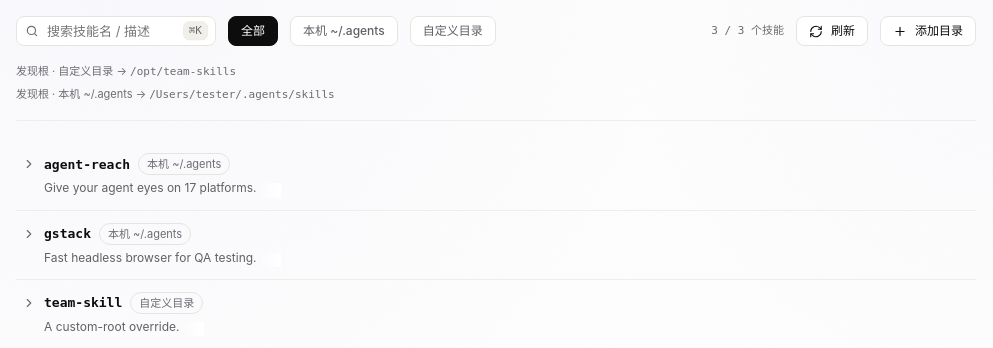
SkillsView › filters by source chip
Expected: the text "team-skill" is shown, [44,292,122,314]
Step 1. Click the button "自定义目录" → [453, 31], box [410,16,496,46]
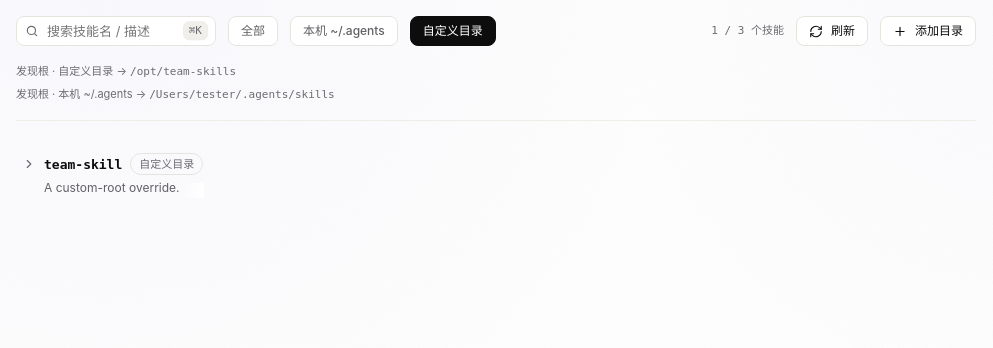
Expected: the text "team-skill" is shown, [44,154,122,175]
Result: the button "gstack" is gone
Result: the text "1 / 3 个技能" is shown at [711,22,784,40]
